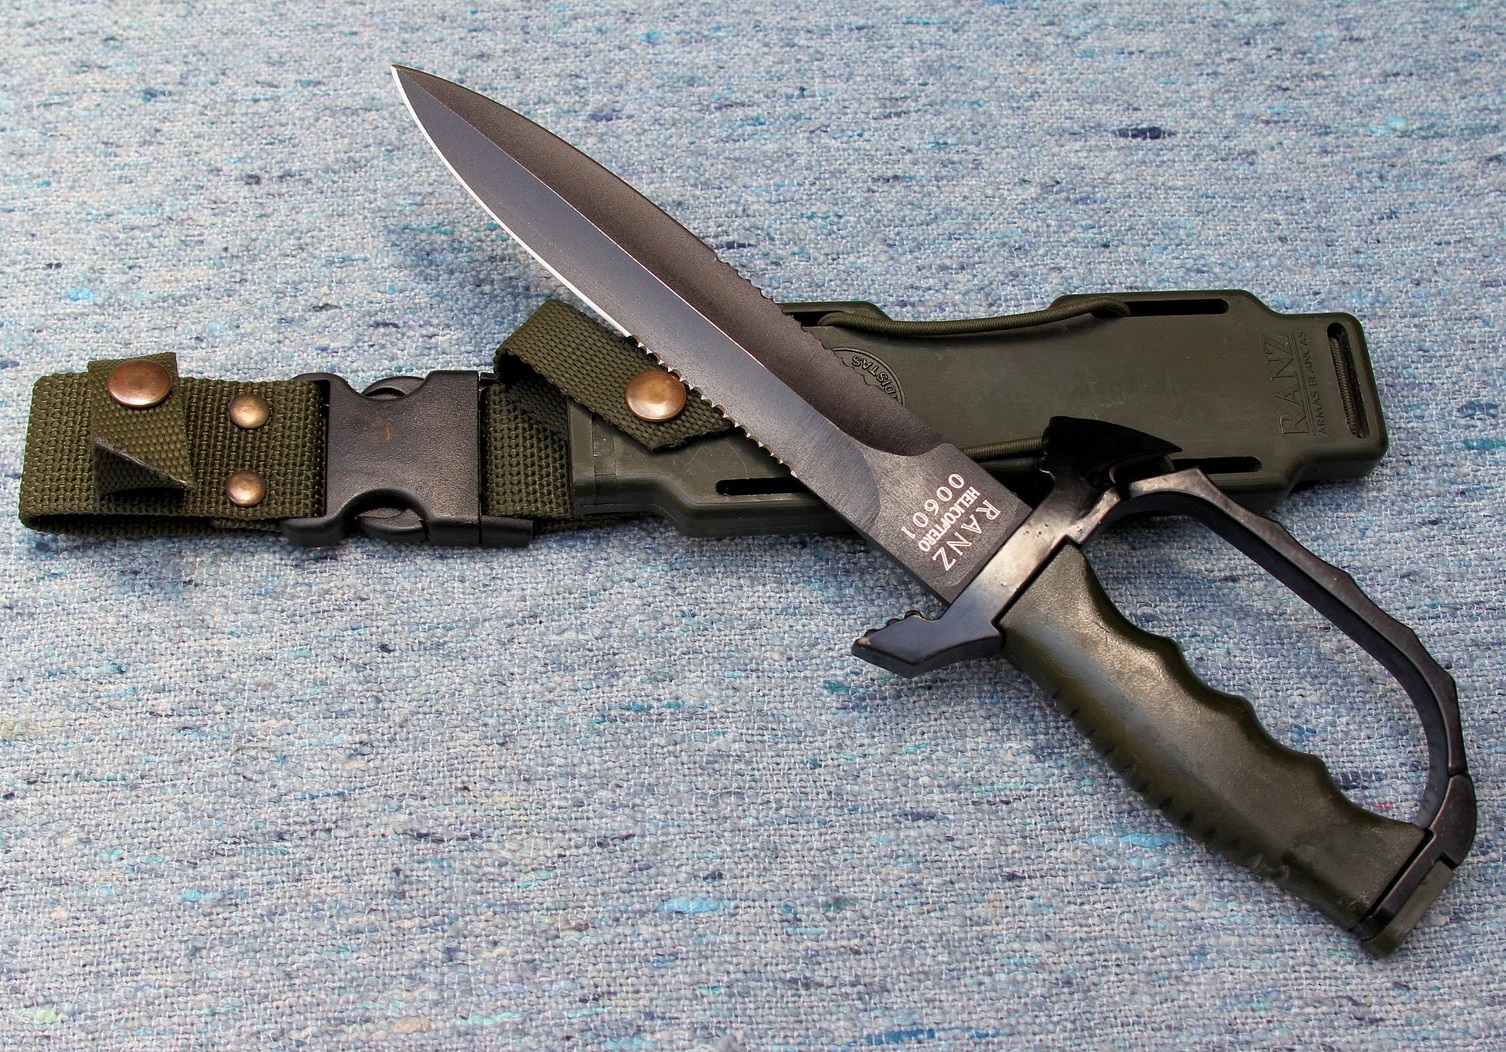knife: (375, 35, 1119, 686)
